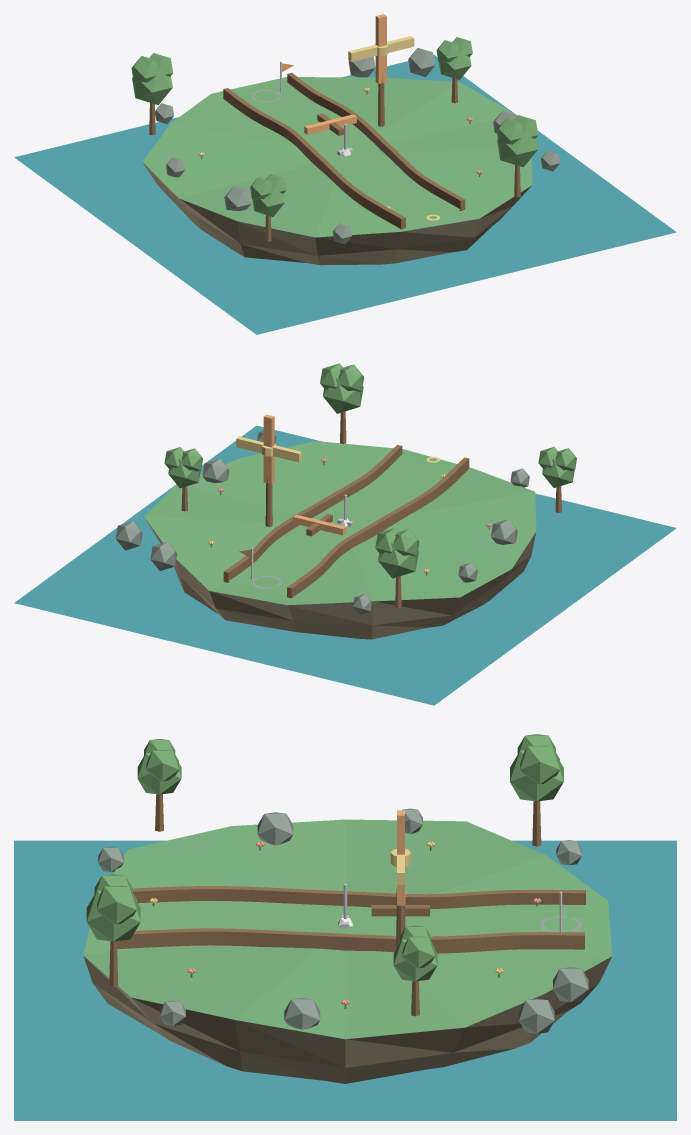
The model's file is course-06.glb.
3 renders of one model, top to bottom at view 1: azimuth 30°, elevation 25°; view 2: azimuth 150°, elevation 25°; view 3: azimuth 270°, elevation 25°, orthographic. The views are drawn at different scales.
Visible parts, largest first — view 1: water-plane.005, island-turf-edge.005, island-rock-plinth.005, surface-grass, rail-left, rail-right, faceted-canopy.069, faceted-canopy.063, faceted-rock.044, faceted-canopy.060, faceted-canopy.066, faceted-canopy.070 (+2 smaller); view 2: water-plane.005, island-turf-edge.005, island-rock-plinth.005, surface-grass, rail-left, rail-right, faceted-canopy.063, faceted-canopy.069, faceted-rock.044, faceted-rock.047, faceted-canopy.064, faceted-rock.040 (+4 smaller); view 3: water-plane.005, island-turf-edge.005, island-rock-plinth.005, surface-grass, rail-right, rail-left, faceted-canopy.069, faceted-canopy.063, faceted-canopy.065, faceted-canopy.071, faceted-rock.044, faceted-rock.047 (+7 smaller).
Part boxes in pixels (box(x1,y1,x2,y2)): water-plane.005: box(14, 55, 676, 334); island-turf-edge.005: box(143, 77, 532, 237); island-rock-plinth.005: box(143, 163, 531, 265); surface-grass: box(237, 82, 460, 226); rail-left: box(223, 88, 405, 229); rail-right: box(287, 72, 465, 210); faceted-canopy.069: box(497, 130, 537, 167); faceted-canopy.063: box(132, 68, 172, 105); faceted-rock.044: box(408, 48, 435, 77); faceted-canopy.060: box(252, 186, 284, 216); faceted-canopy.066: box(439, 49, 471, 79); faceted-canopy.070: box(496, 118, 523, 145); water-plane.005: box(14, 425, 676, 705); island-turf-edge.005: box(144, 441, 536, 605); island-rock-plinth.005: box(145, 518, 536, 639); surface-grass: box(229, 454, 456, 595); rail-left: box(287, 457, 469, 598); rail-right: box(223, 445, 402, 582); faceted-canopy.063: box(378, 542, 418, 578); faceted-canopy.069: box(323, 377, 363, 413); faceted-rock.044: box(115, 521, 142, 550); faceted-rock.047: box(150, 541, 177, 570); faceted-canopy.064: box(393, 529, 419, 556); faceted-rock.040: box(491, 519, 517, 544); water-plane.005: box(14, 840, 676, 1120); island-turf-edge.005: box(83, 819, 612, 1039); island-rock-plinth.005: box(83, 956, 611, 1083); surface-grass: box(109, 901, 585, 942); rail-right: box(117, 928, 584, 953); rail-left: box(133, 886, 585, 908); faceted-canopy.069: box(86, 890, 140, 941); faceted-canopy.063: box(510, 750, 563, 801); faceted-canopy.065: box(520, 745, 559, 784); faceted-canopy.071: box(97, 885, 136, 924); faceted-rock.044: box(519, 998, 554, 1033); faceted-rock.047: box(553, 967, 588, 1002).
Bounding box in the file's own units: 12.3 × 4.3 × 12.3.
